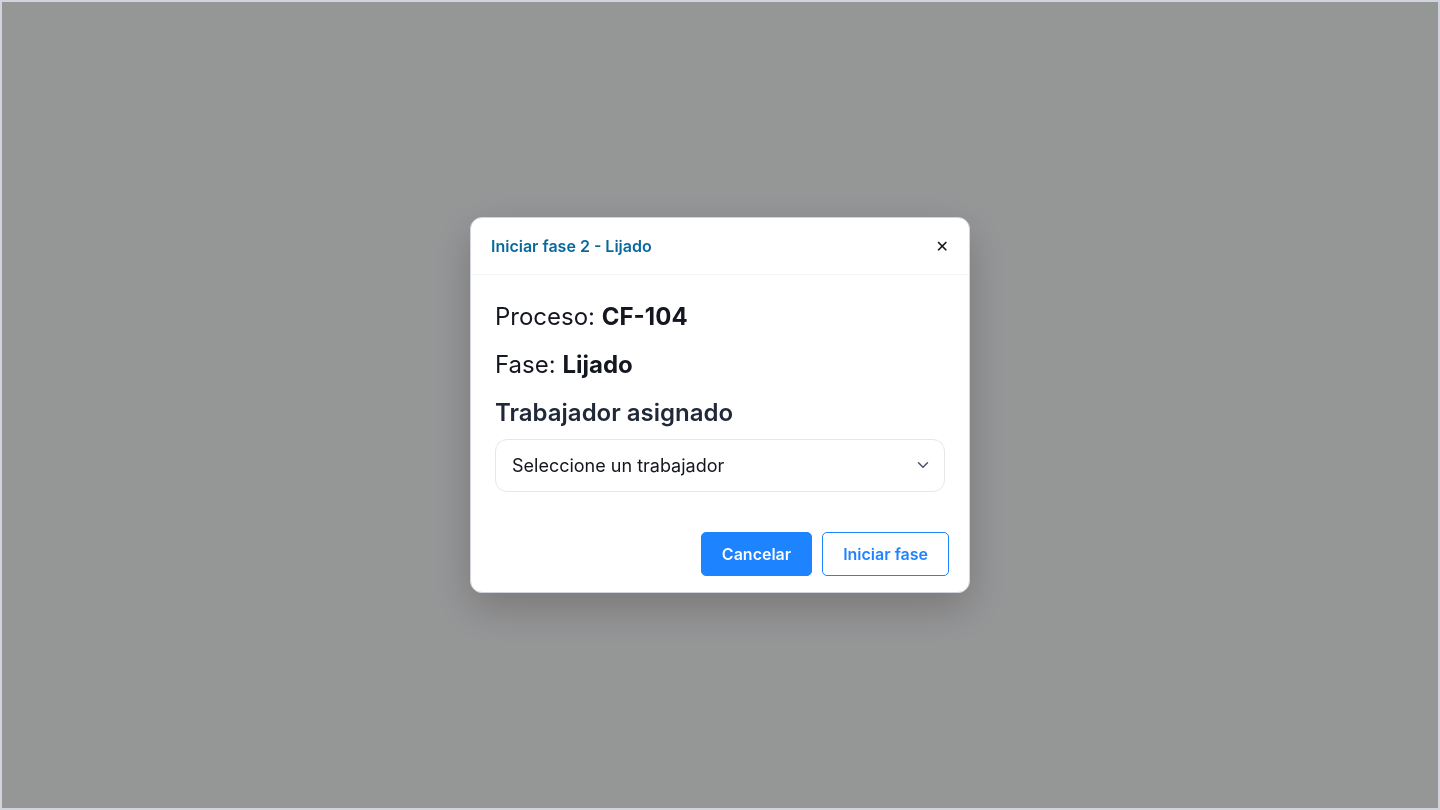
Test: Test Caja Blanca - Crear Subproceso › CP-1.3: Debe mostrar alerta si la mutate falla
Select "Juana Rincon" in the dropdown labelled "Trabajador asignado" at point(720, 465), box [495,439,945,492]
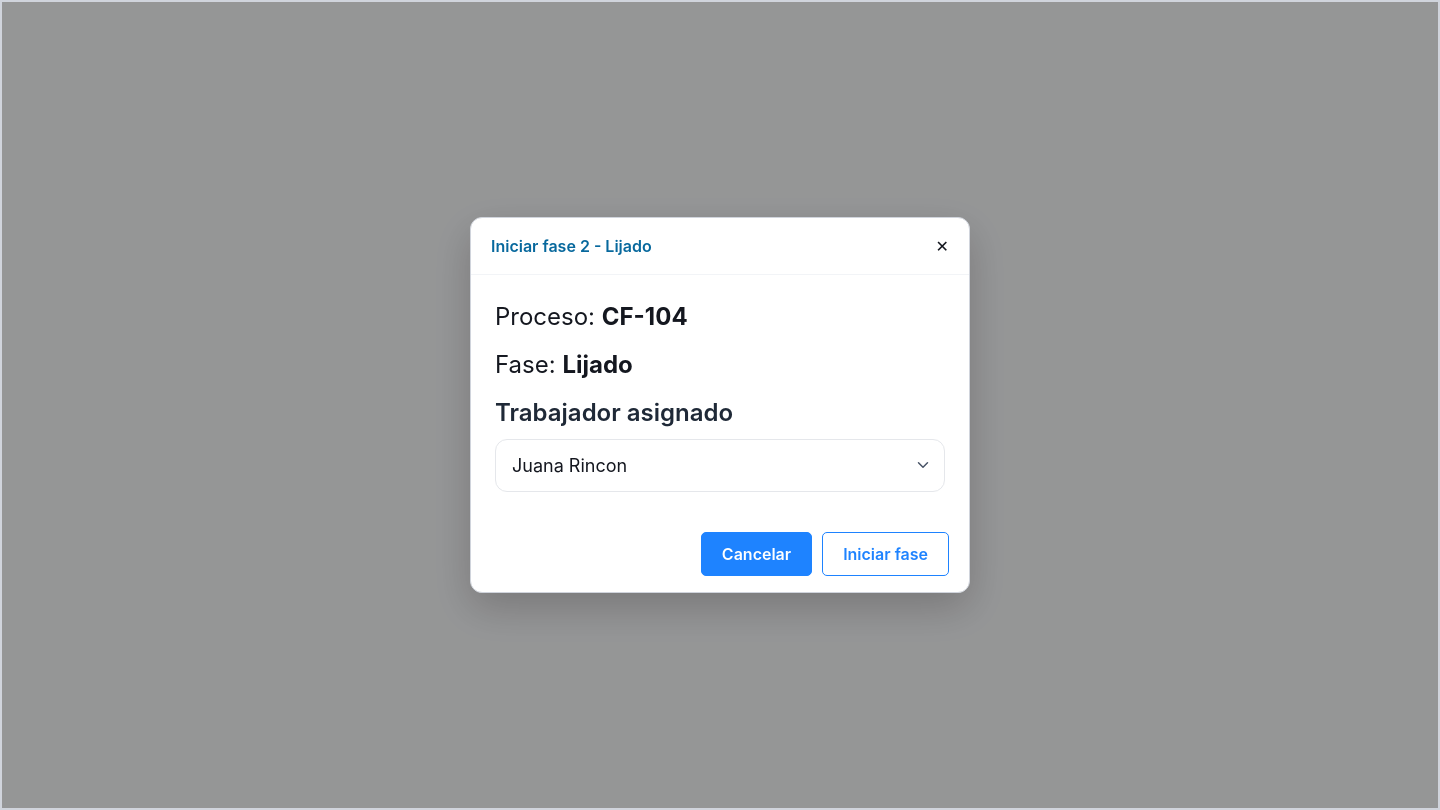
Click the button "Iniciar fase".
click(886, 554)  # box [822,532,949,576]
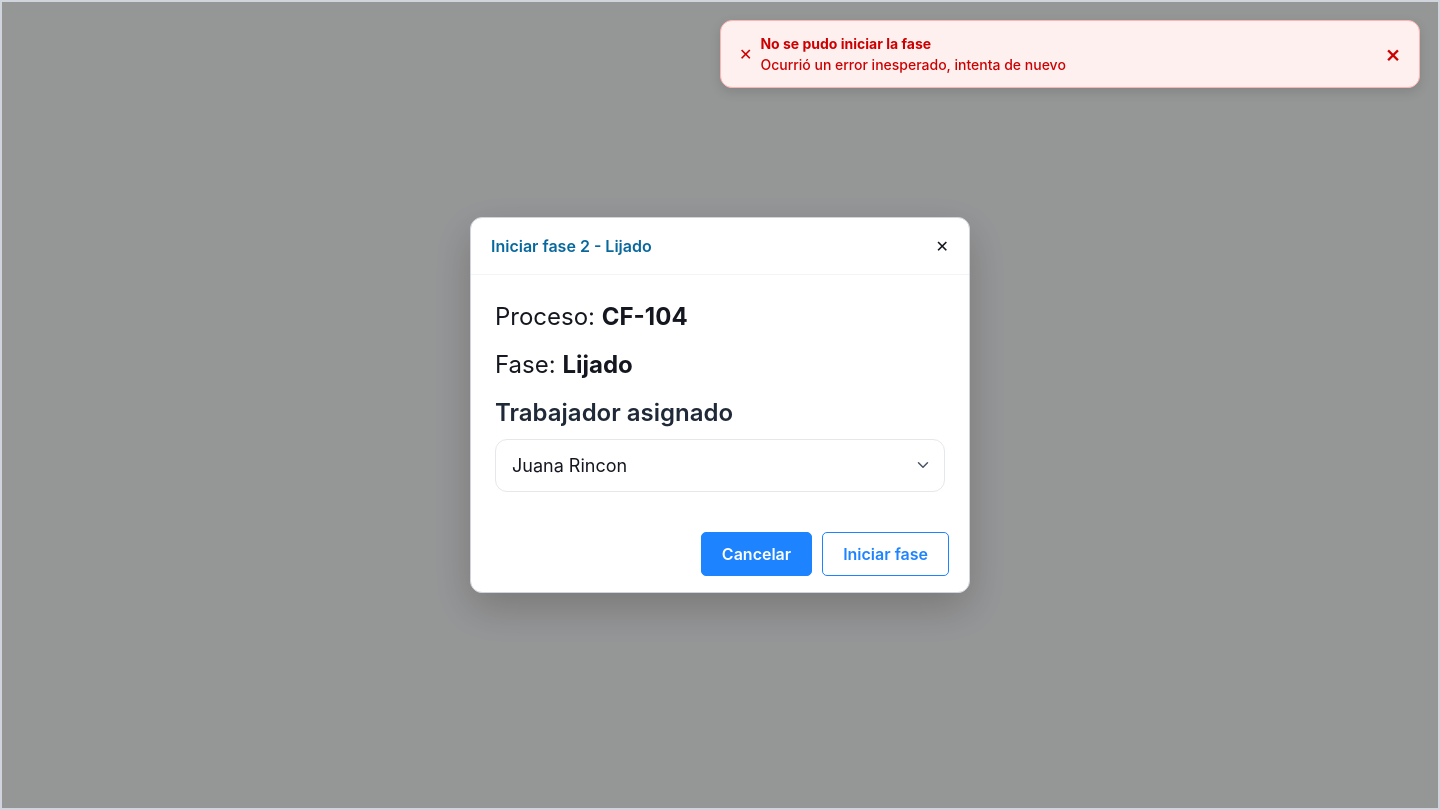
Result: the text "Ocurrió un error inesperado" is shown at [760,56,1066,73]
